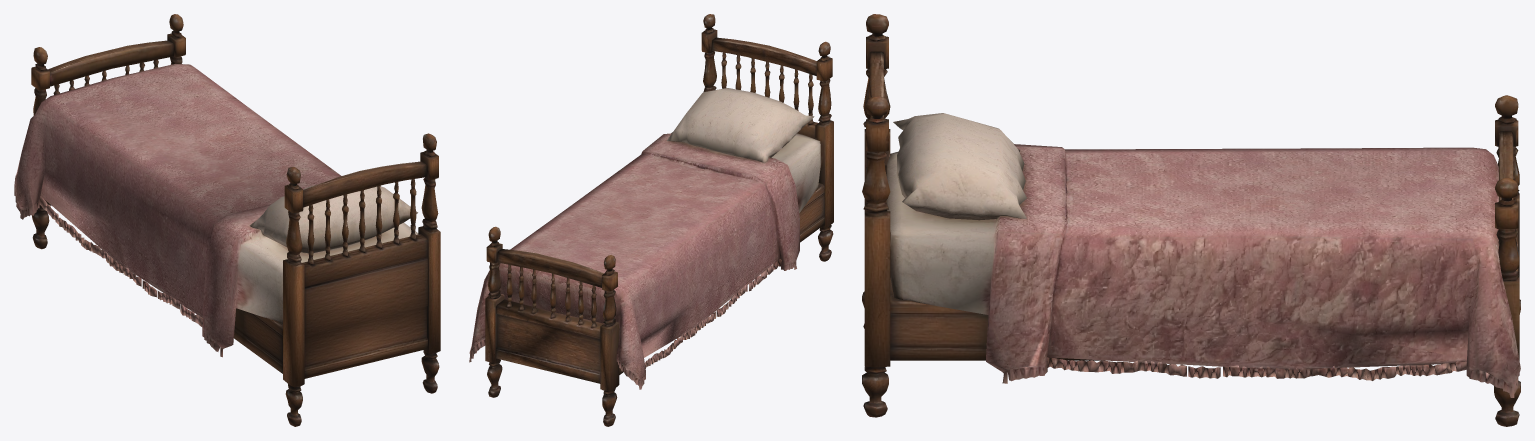
The model's file is furniture-bed-single.glb.
3 renders of one model, left to right at view 1: azimuth 30°, elevation 25°; view 2: azimuth 150°, elevation 25°; view 3: azimuth 270°, elevation 25°, orthographic. The views are drawn at different scales.
Visible parts, largest first — view 1: tripo_node_a14196e7-a8dc-441b-bbe4-30baa798b8f1; view 2: tripo_node_a14196e7-a8dc-441b-bbe4-30baa798b8f1; view 3: tripo_node_a14196e7-a8dc-441b-bbe4-30baa798b8f1.
Part boxes in pixels (x1,y1,x2,y2): tripo_node_a14196e7-a8dc-441b-bbe4-30baa798b8f1: (14, 14, 440, 426); tripo_node_a14196e7-a8dc-441b-bbe4-30baa798b8f1: (469, 14, 833, 426); tripo_node_a14196e7-a8dc-441b-bbe4-30baa798b8f1: (862, 14, 1520, 426).
Bounding box in the file's own units: 0.8 × 1.05 × 1.9.
Materials: 1 (1 with a texture image).
